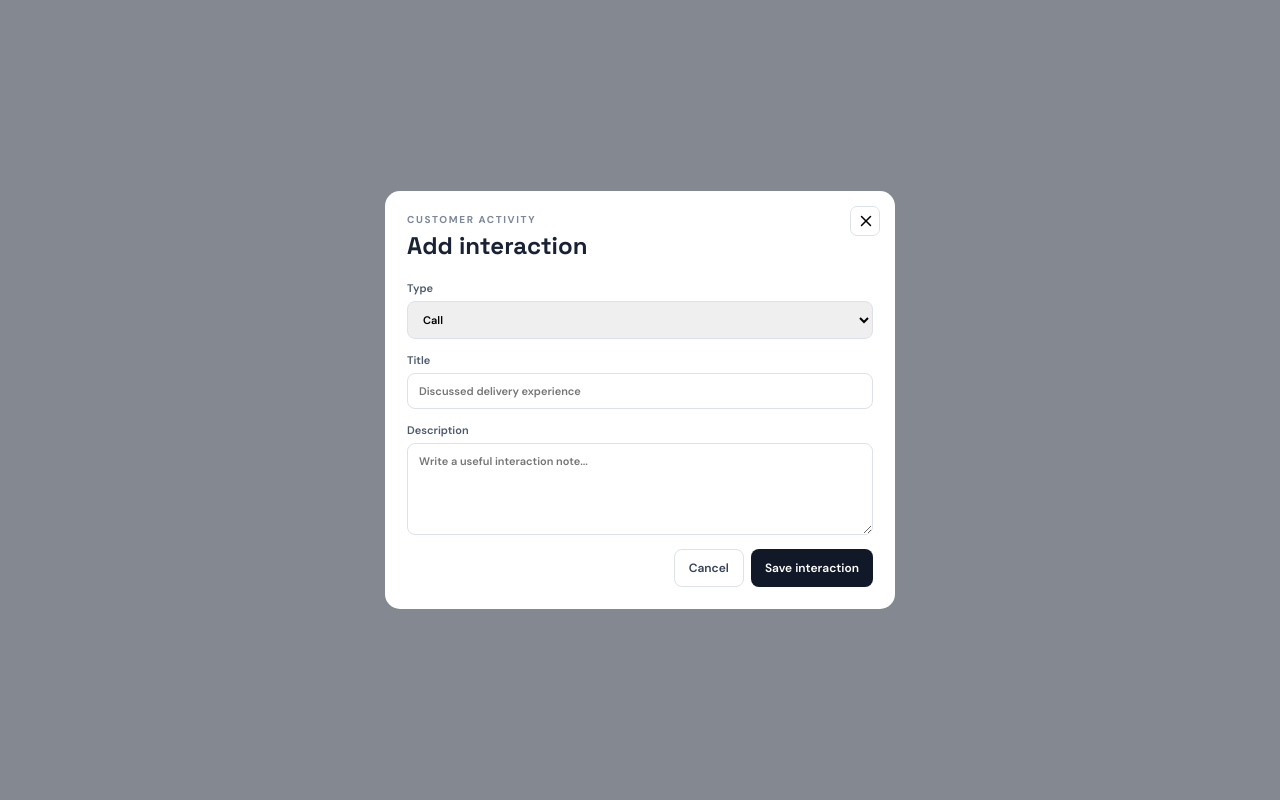
Test: InteractionModal Component › validates short title (less than 3 characters)
The image size is (1280, 800).
Type "ab" into the field with placeholder "Discussed delivery experience" at coordinates (640, 391), box [407,373,873,409]
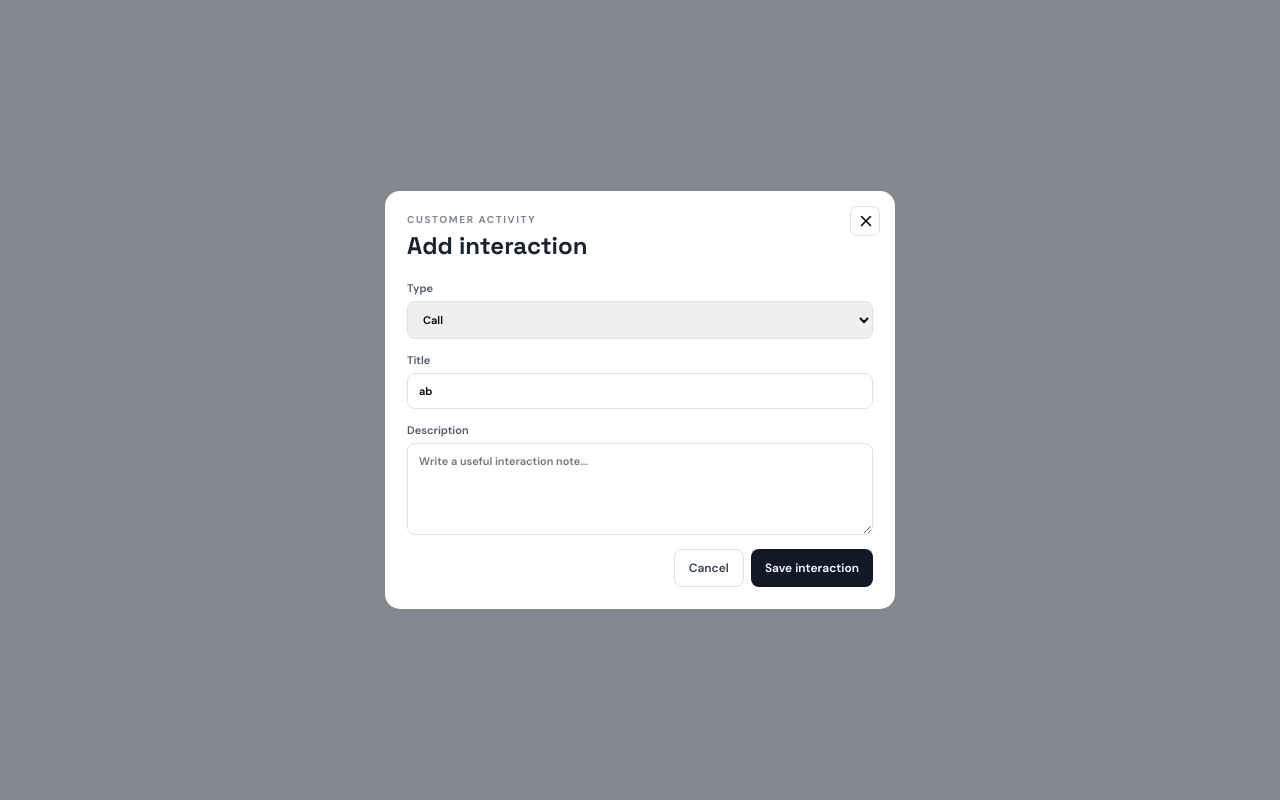
Click the button "Save interaction" at coordinates (812, 568), box [751,549,873,587]
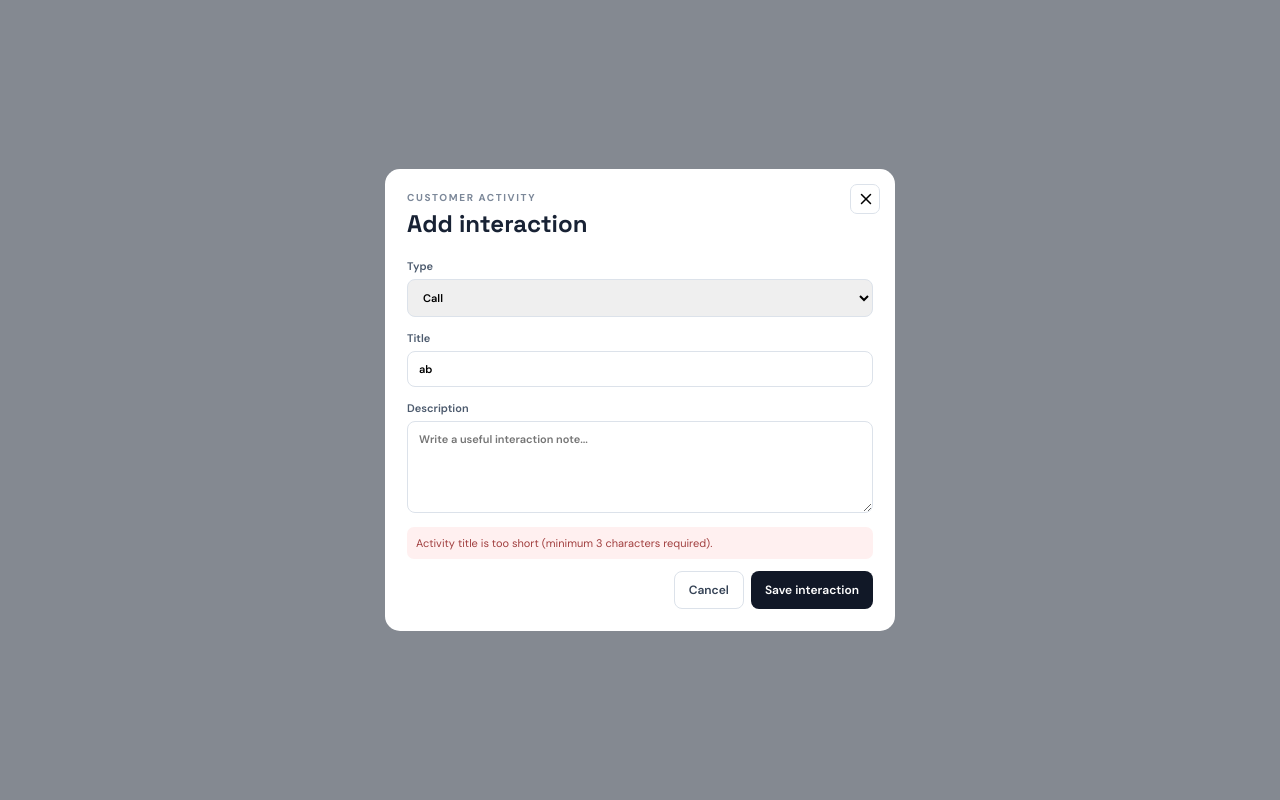
Expected: the text "Activity title is too short (minimum 3 characters required)." is shown, [407,527,873,559]
